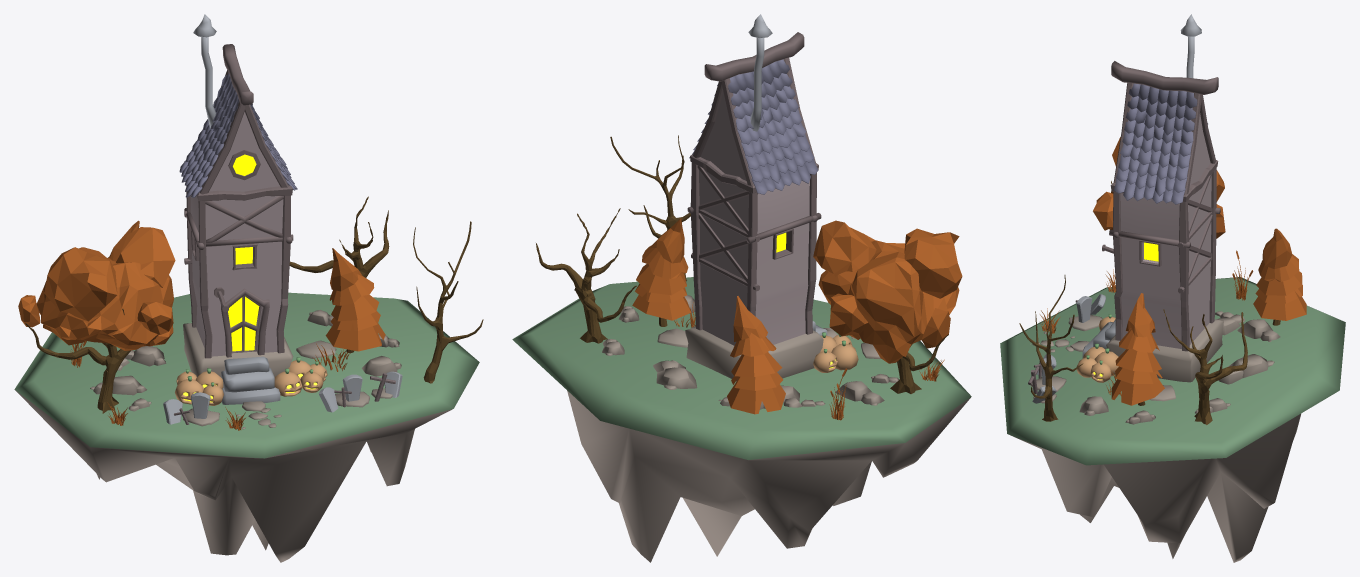
Rendered from halloween_island.glb.
3 renders of one model, left to right at view 1: azimuth 30°, elevation 25°; view 2: azimuth 150°, elevation 25°; view 3: azimuth 270°, elevation 25°, orthographic. The views are drawn at different scales.
Parts seen in each view (by area): view 1: Object_2, Object_3, Object_15, Object_7, Object_12, Object_6, Object_11, Object_8, Object_5, Object_4; view 2: Object_2, Object_3, Object_7, Object_15, Object_11, Object_12, Object_8, Object_4; view 3: Object_2, Object_3, Object_7, Object_15, Object_11, Object_12, Object_6, Object_8, Object_4.
Boxes of the visible parts, box(x1,y1,x2,y2) form: Object_2: box(14, 196, 483, 458); Object_3: box(14, 389, 452, 562); Object_15: box(174, 44, 395, 424); Object_7: box(190, 112, 283, 356); Object_12: box(90, 310, 401, 429); Object_6: box(163, 356, 402, 424); Object_11: box(179, 73, 297, 197); Object_8: box(175, 360, 327, 405); Object_5: box(228, 154, 259, 351); Object_4: box(193, 14, 216, 128); Object_2: box(512, 135, 971, 459); Object_3: box(567, 390, 970, 562); Object_7: box(698, 92, 809, 345); Object_15: box(687, 32, 821, 334); Object_11: box(689, 59, 818, 194); Object_12: box(602, 295, 899, 409); Object_8: box(813, 335, 858, 372); Object_4: box(748, 14, 772, 131); Object_2: box(1000, 137, 1345, 465); Object_3: box(1010, 414, 1300, 562); Object_7: box(1120, 113, 1211, 348); Object_15: box(1028, 61, 1220, 393); Object_11: box(1114, 83, 1207, 204); Object_12: box(1030, 311, 1280, 424); Object_6: box(1032, 294, 1115, 403); Object_8: box(1076, 316, 1118, 382); Object_4: box(1180, 14, 1201, 78).
Bounding box in the file's own units: 19.46 × 25.01 × 15.03.
